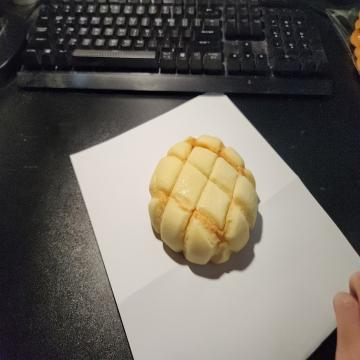melon_bread: (147, 133, 260, 267)
